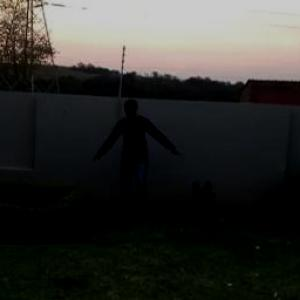land: (90, 99, 182, 226)
